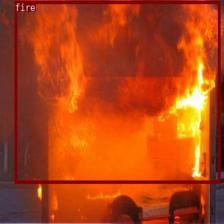fire: (14, 0, 220, 183)
